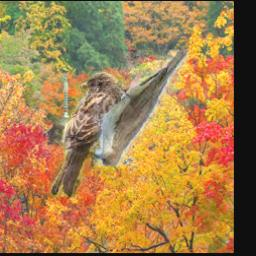Cuckoo: (93, 50, 189, 167)
Sparrow: (49, 71, 122, 197)
